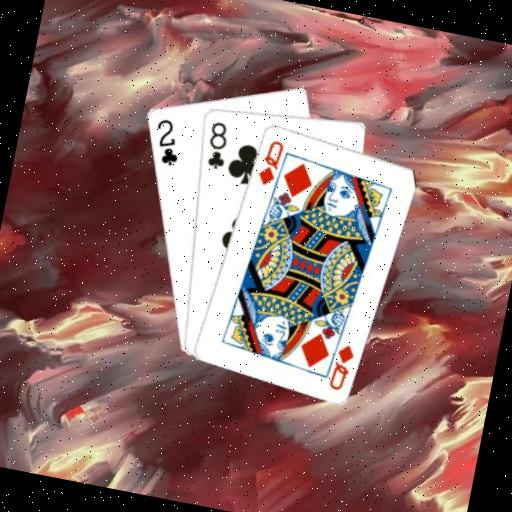2C: (147, 114, 187, 169)
8C: (201, 117, 234, 172)
QD: (253, 135, 287, 189), (325, 339, 358, 394)
